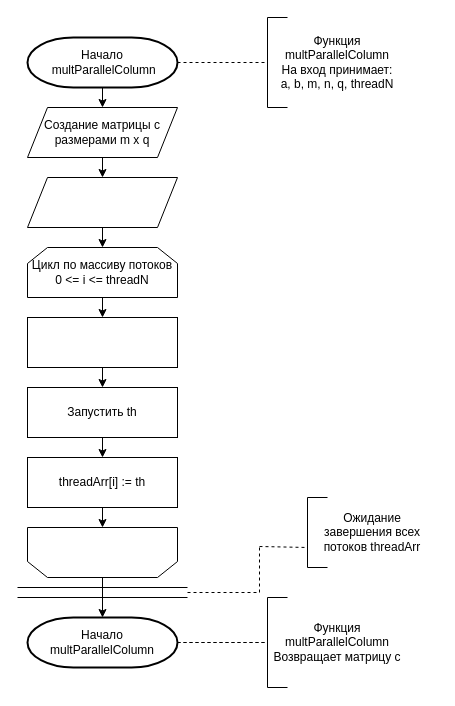
Some shapes in this 455 by 706 pixel diagram are drawn without their labels. Here are the shapes that lost their labels. From the top down, the centre of each, then its label:
point 102,202: Создание массива потоков threadArr с размером threadN
point 102,342: th := Поток(ColumnThread) Аргументы: a, b, c, m, n, q, i, threadN
point 102,552: Конец цикла по массиву потоков
